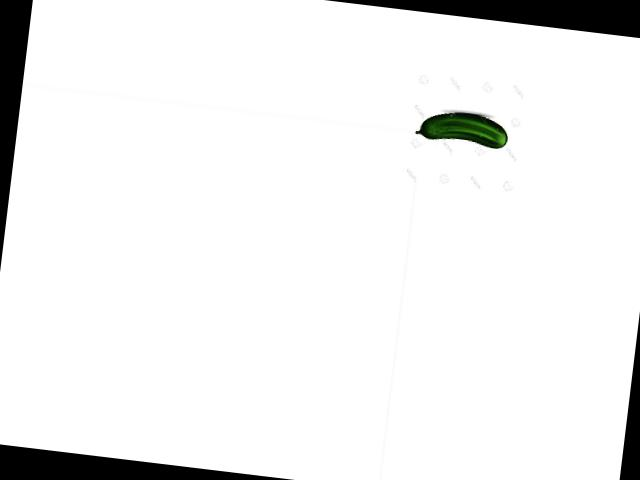cucumber: (415, 107, 510, 149)
